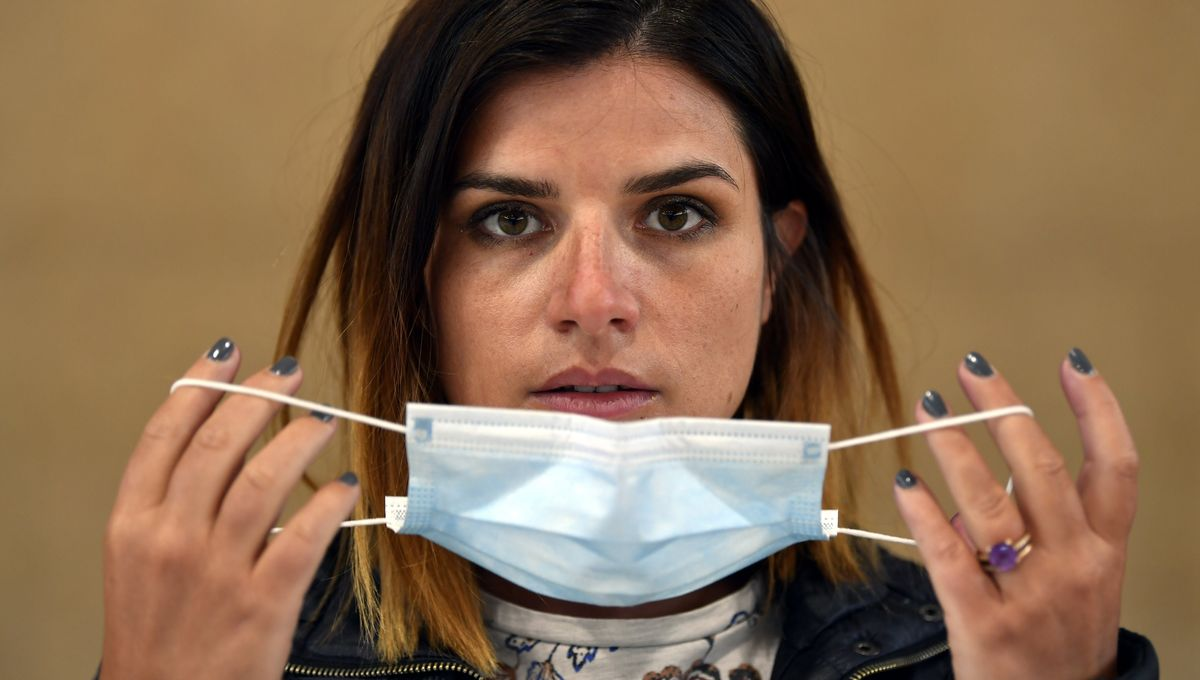with_incorrect_mask: (382, 18, 819, 592)
